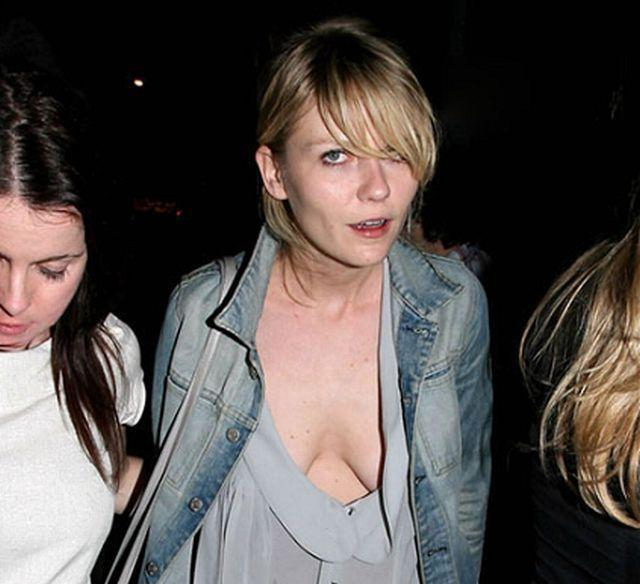Drunk: (287, 103, 416, 260)
